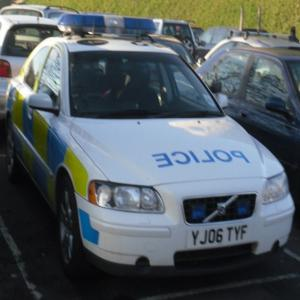Vehicle-registration-plate: (186, 226, 253, 248)
